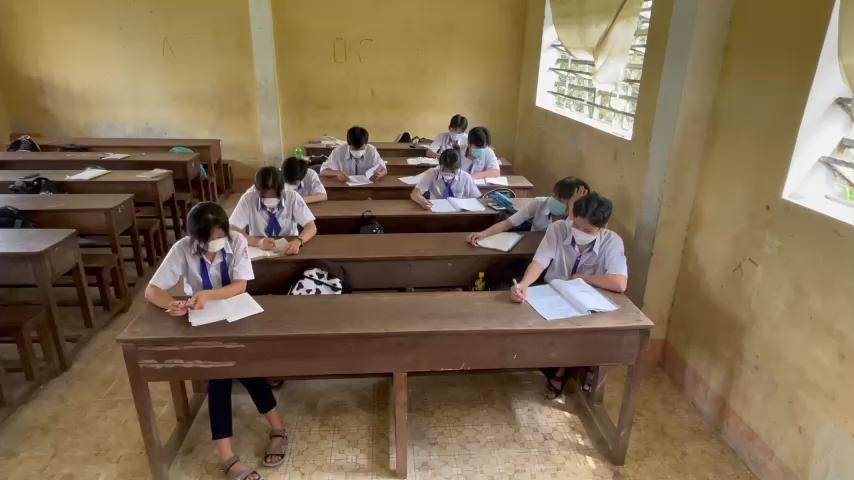Hand Under Table: (459, 170, 481, 201)
